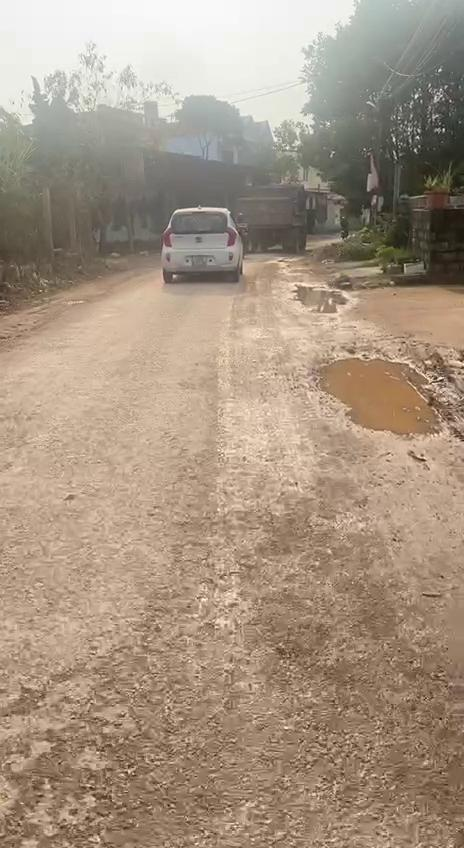pothole: (310, 353, 448, 448), (292, 281, 356, 318)
